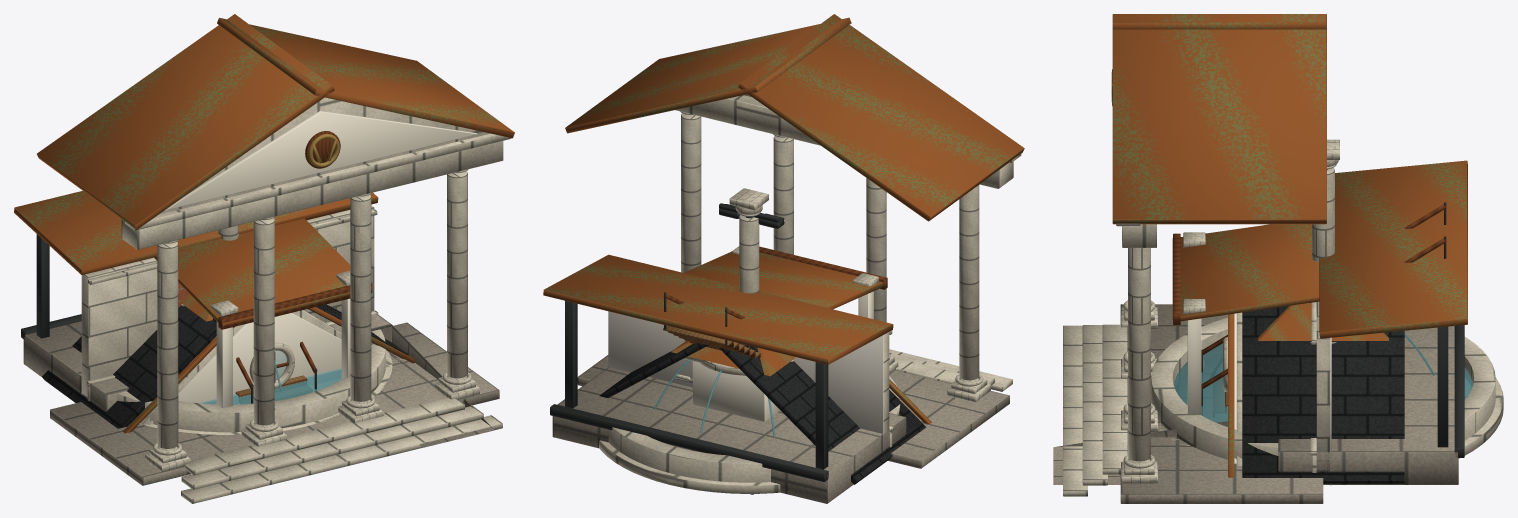
File: premium_clubhouse_modular_kit.glb
3 views of the same model, side by side, from view 1: azimuth 30°, elevation 25°; view 2: azimuth 150°, elevation 25°; view 3: azimuth 270°, elevation 25° (orthographic). The views are drawn at different scales.
Visible parts, largest first — view 1: MESH_MOD_GRAND_PORTICO_10000_PedimentRoofW, MESH_MOD_GRAND_PORTICO_10000_PedimentRoofE, MESH_MOD_GRAND_PORTICO_10000_GrandStoop, MESH_MOD_VERANDA_COPPER_BAY_4000_CopperRoof, MESH_MOD_GRAND_PORTICO_10000_TympanumInset, MESH_MOD_GRAND_PORTICO_10000_Entablature, MESH_MOD_LOADING_DOCK_8000_Canopy, MESH_MOD_WALL_GRAND_MEMBER_ENTRY_8000_LeftPier, MESH_MOD_PAVILION_GABLE_7600_CreamTympanum, MESH_MOD_PREMIUM_FOUNTAIN_8000_OuterBasin, MESH_MOD_PAVILION_GABLE_7600_SlateRoof_1, MESH_MOD_COLUMN_TUSCAN_550_Shaft.001 (+22 smaller); view 2: MESH_MOD_GRAND_PORTICO_10000_PedimentRoofW, MESH_MOD_LOADING_DOCK_8000_Canopy, MESH_MOD_LOADING_DOCK_8000_DockSlab, MESH_MOD_GRAND_PORTICO_10000_PedimentRoofE, MESH_MOD_GRAND_PORTICO_10000_GrandStoop, MESH_MOD_PAVILION_GABLE_7600_SlateRoof_1, MESH_MOD_VERANDA_COPPER_BAY_4000_CopperRoof, MESH_MOD_PREMIUM_FOUNTAIN_8000_OuterBasin, MESH_MOD_WALL_GRAND_MEMBER_ENTRY_8000_LeftPier_InteriorLiner, MESH_MOD_COLUMN_TUSCAN_550_Shaft.001, MESH_MOD_WALL_GRAND_MEMBER_ENTRY_8000_RightPier_InteriorLine, MESH_MOD_LOADING_DOCK_8000_DockEdge (+16 smaller); view 3: MESH_MOD_GRAND_PORTICO_10000_PedimentRoofE, MESH_MOD_LOADING_DOCK_8000_Canopy, MESH_MOD_PAVILION_GABLE_7600_SlateRoof_1_001, MESH_MOD_VERANDA_COPPER_BAY_4000_CopperRoof, MESH_MOD_LOADING_DOCK_8000_DockSlab, MESH_MOD_GRAND_PORTICO_10000_GrandStoop, MESH_MOD_PREMIUM_FOUNTAIN_8000_OuterBasin, MESH_MOD_COLUMN_TUSCAN_550_Shaft.004, MESH_MOD_GRAND_PORTICO_10000_Step_3, MESH_MOD_GRAND_PORTICO_10000_Step_1, MESH_MOD_GRAND_PORTICO_10000_Step_2, MESH_MOD_PREMIUM_FOUNTAIN_8000_WaterPlane (+13 smaller).
Part boxes in pixels (left/top/right/bottom): MESH_MOD_GRAND_PORTICO_10000_PedimentRoofW: left=37, top=14, right=334, bottom=229; MESH_MOD_GRAND_PORTICO_10000_PedimentRoofE: left=217, top=17, right=514, bottom=138; MESH_MOD_GRAND_PORTICO_10000_GrandStoop: left=50, top=322, right=499, bottom=485; MESH_MOD_VERANDA_COPPER_BAY_4000_CopperRoof: left=154, top=218, right=371, bottom=325; MESH_MOD_GRAND_PORTICO_10000_TympanumInset: left=165, top=110, right=477, bottom=209; MESH_MOD_GRAND_PORTICO_10000_Entablature: left=121, top=141, right=503, bottom=249; MESH_MOD_LOADING_DOCK_8000_Canopy: left=14, top=191, right=378, bottom=274; MESH_MOD_WALL_GRAND_MEMBER_ENTRY_8000_LeftPier: left=82, top=257, right=181, bottom=398; MESH_MOD_PAVILION_GABLE_7600_CreamTympanum: left=147, top=313, right=389, bottom=425; MESH_MOD_PREMIUM_FOUNTAIN_8000_OuterBasin: left=117, top=329, right=385, bottom=432; MESH_MOD_PAVILION_GABLE_7600_SlateRoof_1: left=42, top=305, right=216, bottom=428; MESH_MOD_COLUMN_TUSCAN_550_Shaft.001: left=157, top=242, right=178, bottom=448; MESH_MOD_GRAND_PORTICO_10000_PedimentRoofW: left=738, top=14, right=1024, bottom=221; MESH_MOD_LOADING_DOCK_8000_Canopy: left=543, top=254, right=893, bottom=364; MESH_MOD_LOADING_DOCK_8000_DockSlab: left=552, top=367, right=906, bottom=503; MESH_MOD_GRAND_PORTICO_10000_PedimentRoofE: left=565, top=17, right=851, bottom=133; MESH_MOD_GRAND_PORTICO_10000_GrandStoop: left=577, top=355, right=1009, bottom=468; MESH_MOD_PAVILION_GABLE_7600_SlateRoof_1: left=719, top=343, right=926, bottom=484; MESH_MOD_VERANDA_COPPER_BAY_4000_CopperRoof: left=684, top=251, right=883, bottom=309; MESH_MOD_PREMIUM_FOUNTAIN_8000_OuterBasin: left=608, top=376, right=900, bottom=482; MESH_MOD_WALL_GRAND_MEMBER_ENTRY_8000_LeftPier_InteriorLiner: left=798, top=335, right=883, bottom=450; MESH_MOD_COLUMN_TUSCAN_550_Shaft.001: left=959, top=185, right=979, bottom=380; MESH_MOD_WALL_GRAND_MEMBER_ENTRY_8000_RightPier_InteriorLine: left=608, top=311, right=692, bottom=387; MESH_MOD_LOADING_DOCK_8000_DockEdge: left=550, top=404, right=828, bottom=481; MESH_MOD_GRAND_PORTICO_10000_PedimentRoofE: left=1112, top=14, right=1326, bottom=224; MESH_MOD_LOADING_DOCK_8000_Canopy: left=1319, top=160, right=1467, bottom=338; MESH_MOD_PAVILION_GABLE_7600_SlateRoof_1_001: left=1242, top=306, right=1404, bottom=483; MESH_MOD_VERANDA_COPPER_BAY_4000_CopperRoof: left=1172, top=224, right=1319, bottom=321; MESH_MOD_LOADING_DOCK_8000_DockSlab: left=1278, top=326, right=1458, bottom=484; MESH_MOD_GRAND_PORTICO_10000_GrandStoop: left=1120, top=304, right=1323, bottom=503; MESH_MOD_PREMIUM_FOUNTAIN_8000_OuterBasin: left=1151, top=317, right=1495, bottom=459; MESH_MOD_COLUMN_TUSCAN_550_Shaft.004: left=1128, top=248, right=1150, bottom=461; MESH_MOD_GRAND_PORTICO_10000_Step_3: left=1063, top=325, right=1087, bottom=496; MESH_MOD_GRAND_PORTICO_10000_Step_1: left=1102, top=324, right=1127, bottom=474; MESH_MOD_GRAND_PORTICO_10000_Step_2: left=1082, top=325, right=1107, bottom=485; MESH_MOD_PREMIUM_FOUNTAIN_8000_WaterPlane: left=1174, top=343, right=1472, bottom=426.
Size of what is drawn, in the model's own units: 10.65 by 9.78 by 9.99.
Materials: 22 (7 with a texture image).
